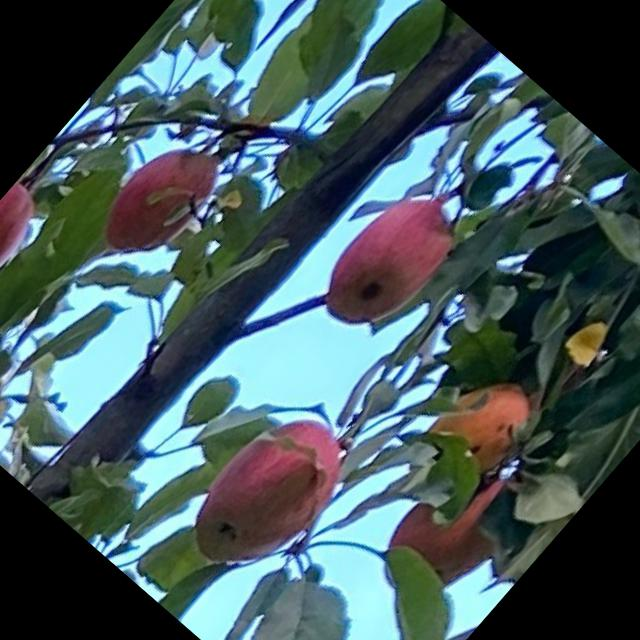Apples: (174, 393, 368, 594), (308, 178, 471, 348), (367, 448, 530, 618), (400, 362, 544, 512), (88, 130, 226, 274), (0, 181, 50, 321)
